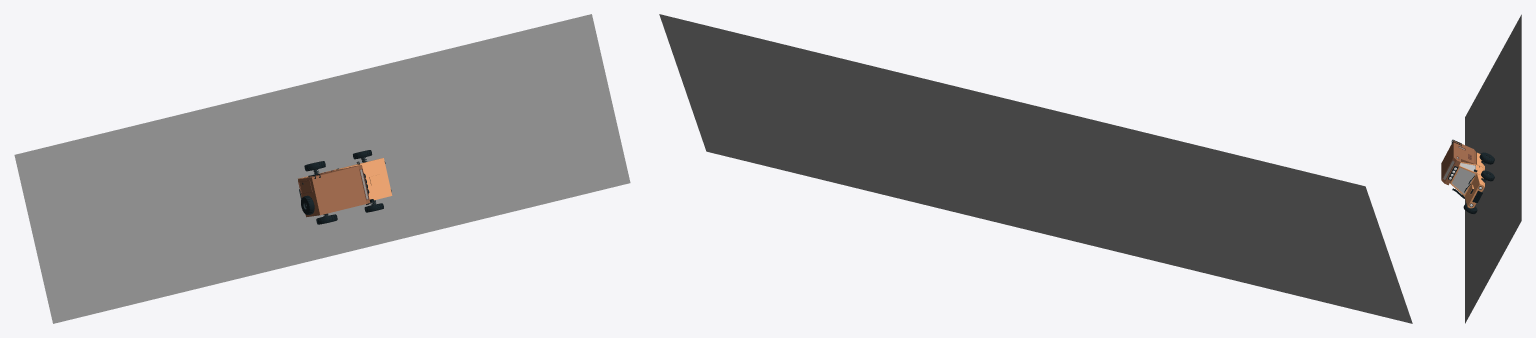
File: jeep_v2.obj
The picture shows the model from 3 angles, left to right: view 1: azimuth 30°, elevation 25°; view 2: azimuth 150°, elevation 25°; view 3: azimuth 270°, elevation 25°; orthographic projection. The views are drawn at different scales.
Visible parts, largest first — view 1: Plane, Frame; view 2: Plane; view 3: Plane, Frame, Rear_wheel, Front_wheel, Front_wheel.001.
Boxes of the visible parts, x1,y1,x2,y2 form: Plane: (14,14,630,323); Frame: (298,158,392,217); Plane: (659,14,1412,323); Plane: (1465,14,1521,323); Frame: (1441,139,1484,208); Rear_wheel: (1479,152,1494,164); Front_wheel: (1481,170,1494,181); Front_wheel.001: (1463,203,1477,213).
Size of the model in its own units: 24.86 by 5.79 by 4.09.
